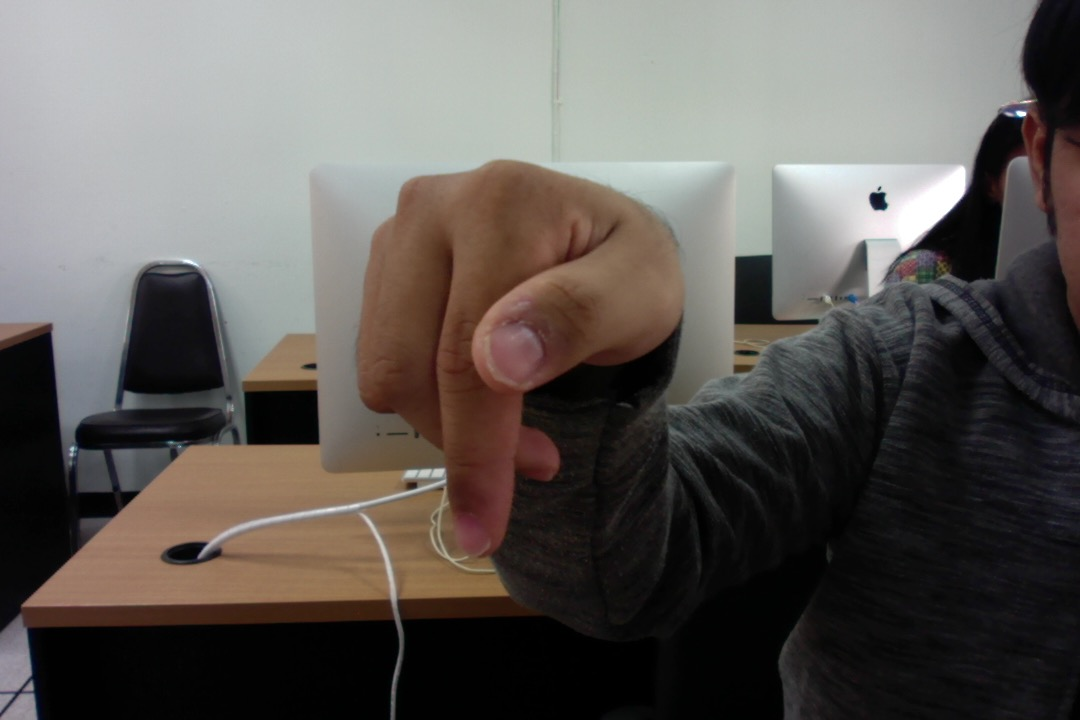por: (350, 150, 693, 570)
